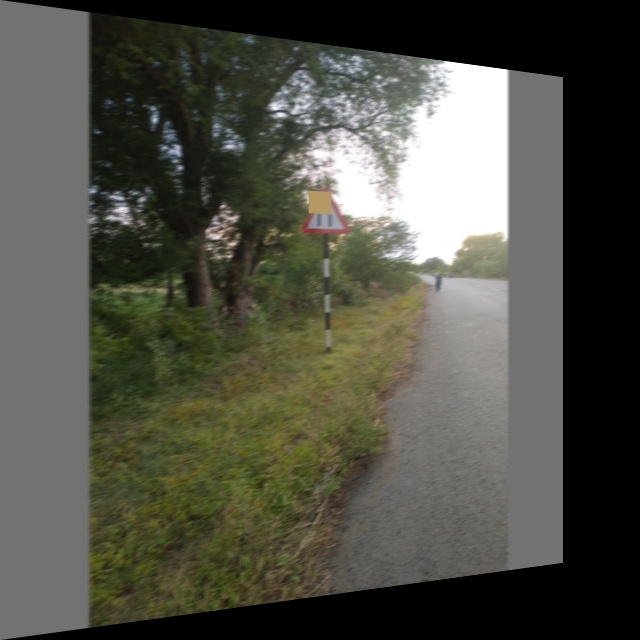Narrow_Road_Ahead: (299, 183, 348, 234)
